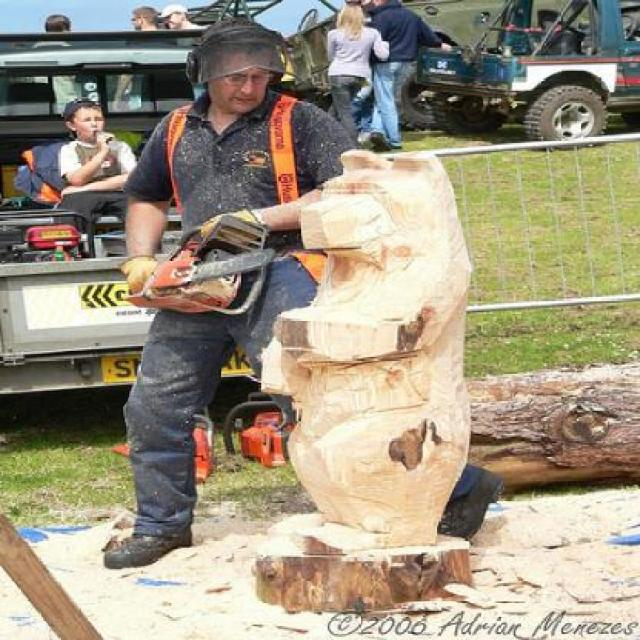Chainsaw: (121, 218, 272, 316)
